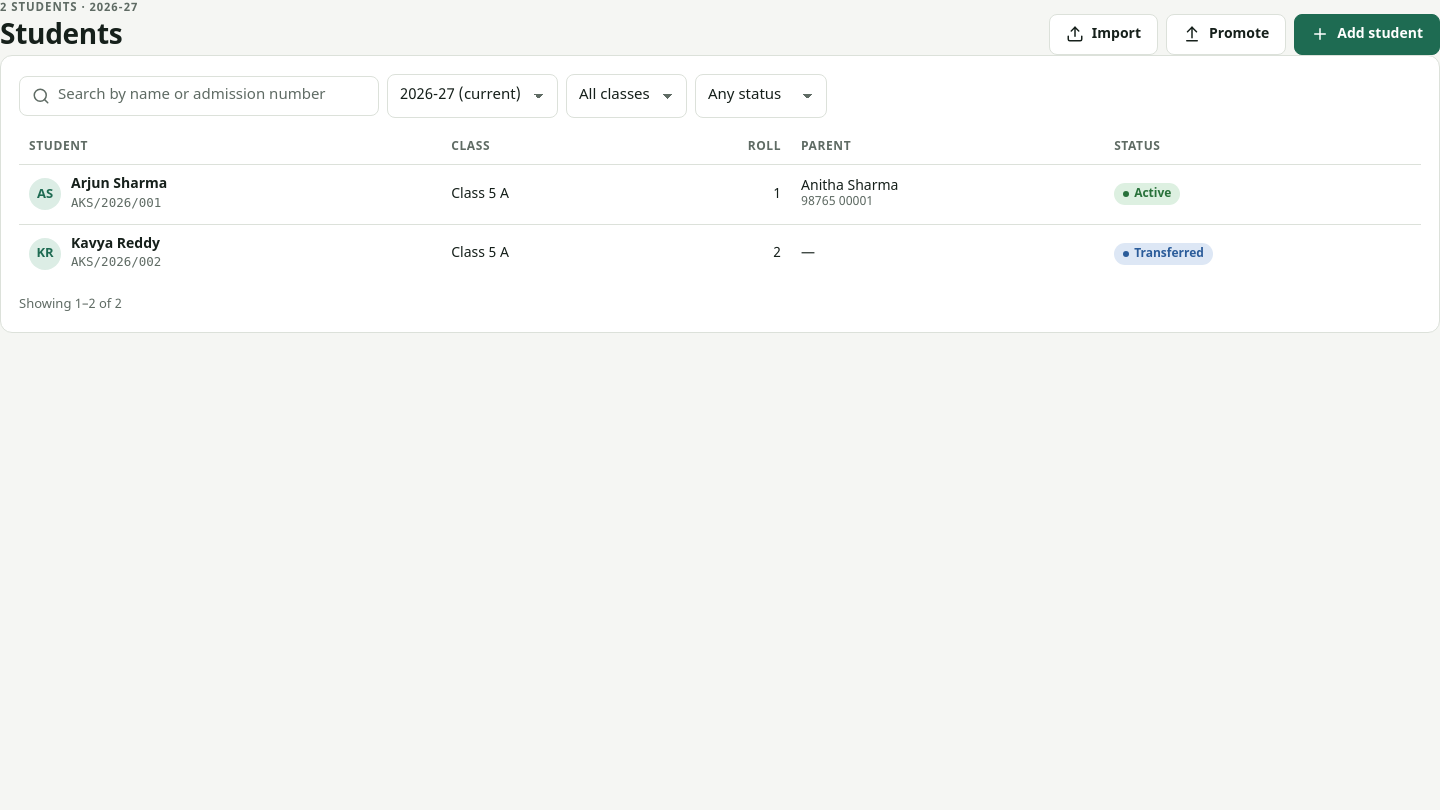
Test: Admitting a student › allows up to four parents or guardians with one primary contact
Expected: the table with test id "students-table" is shown, [19,130,1421,283]
Click the button "Add student" at {"x": 1367, "y": 34}, box [1294,14,1439,55]
(page scrolled)
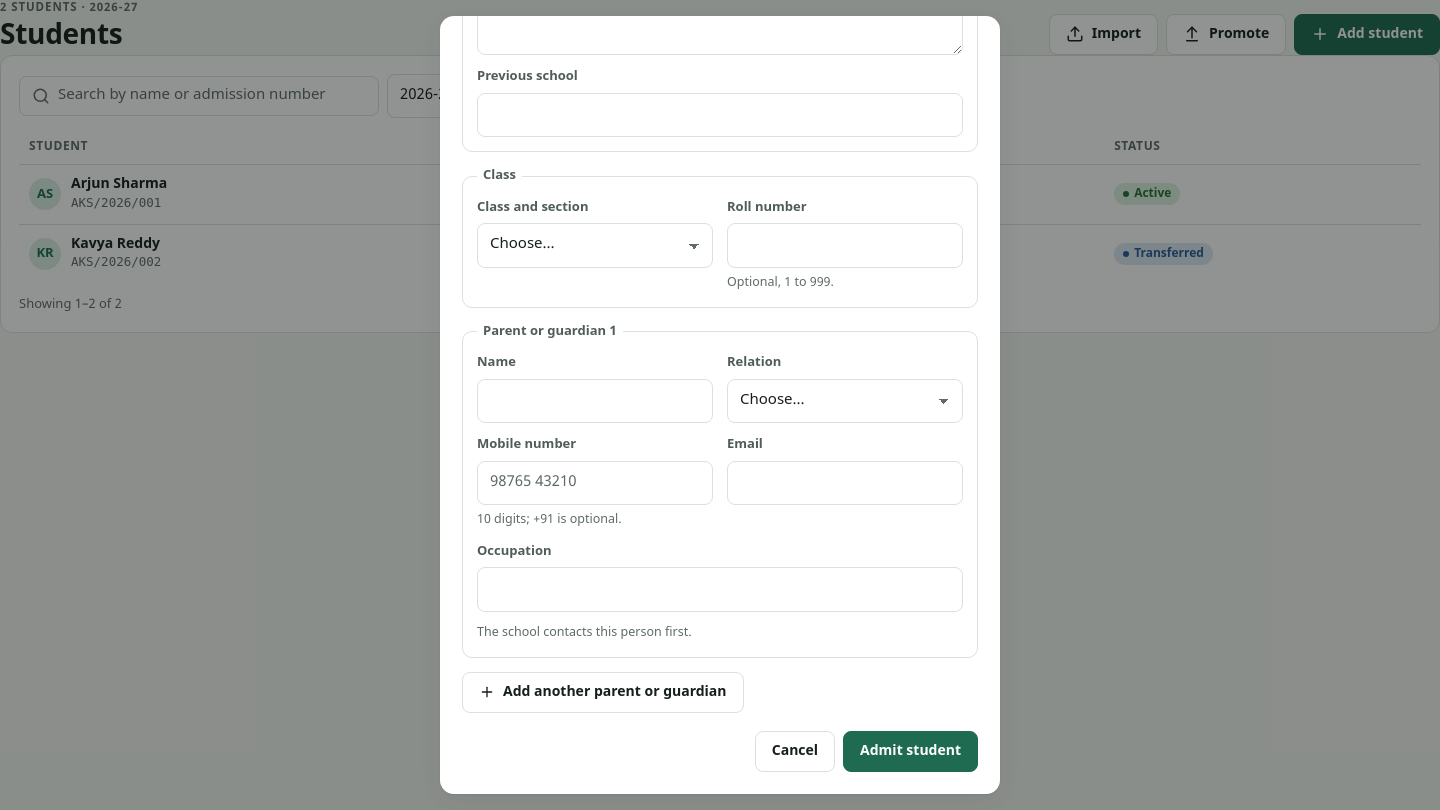
Expected: the button "Admit student" is shown, [843,731,978,772]
Click the button "Add another parent or guardian" at {"x": 603, "y": 692}, box [462,672,744,713]
(page scrolled)
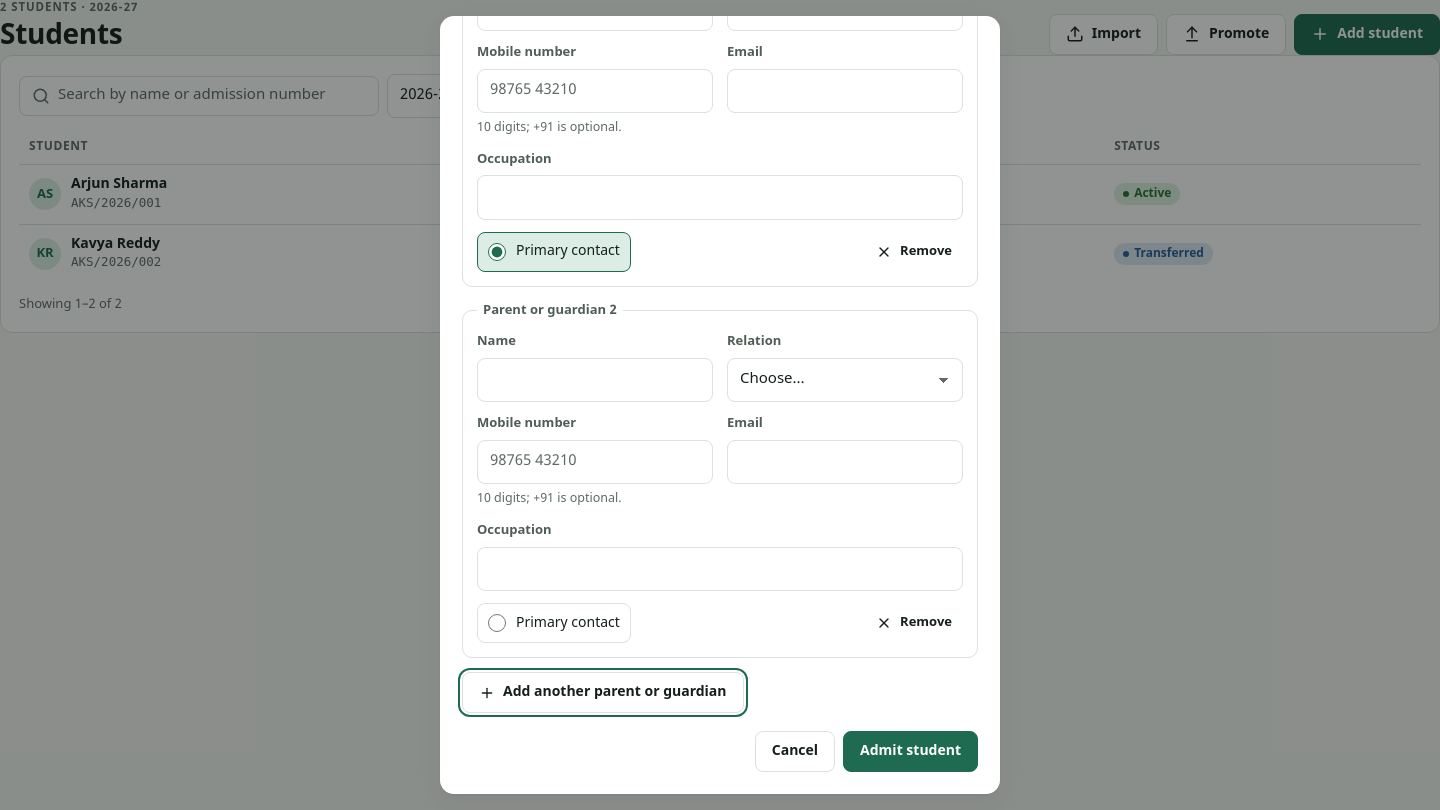
Click the button "Add another parent or guardian" at {"x": 603, "y": 693}, box [462,672,744,713]
(page scrolled)
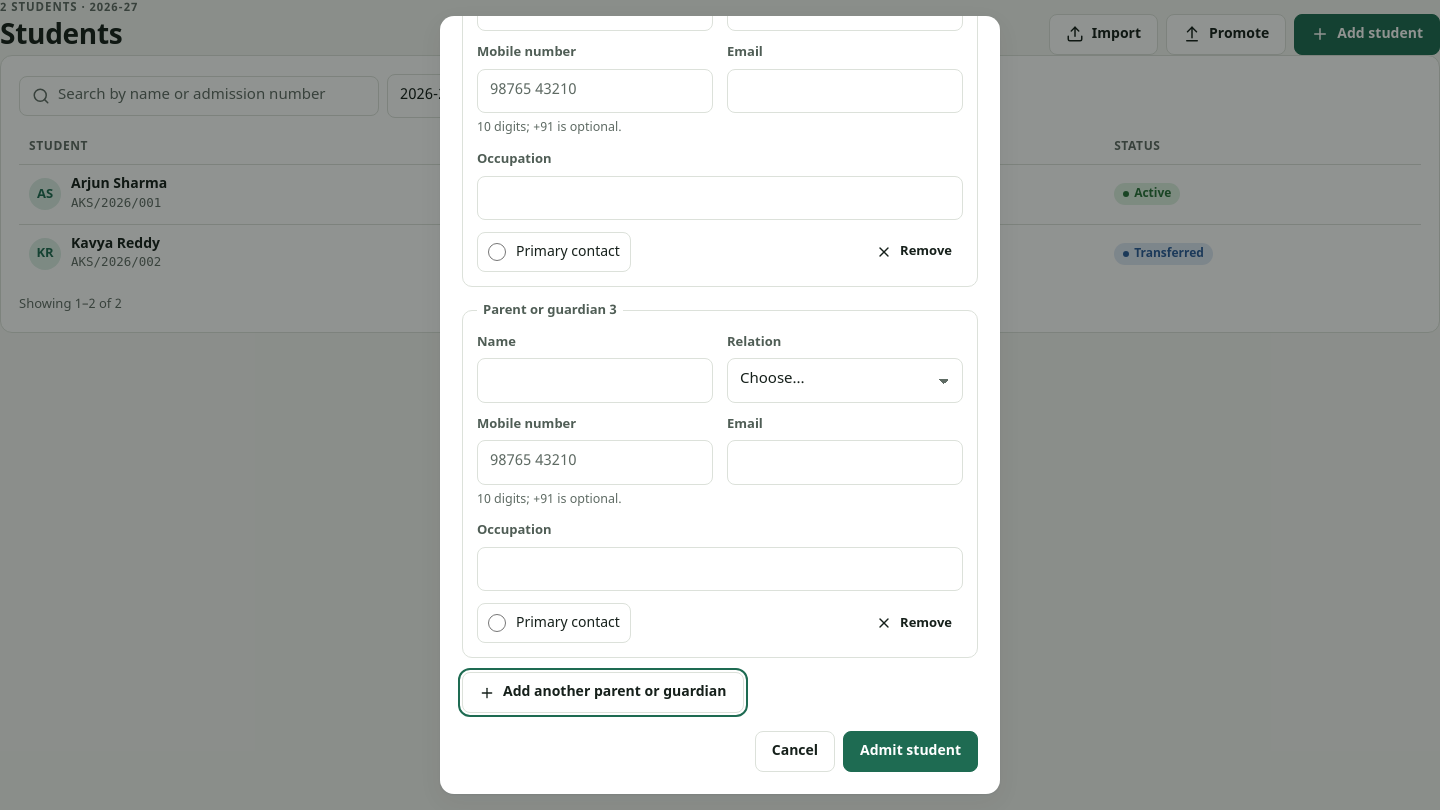
Click the button "Add another parent or guardian" at {"x": 603, "y": 693}, box [462,672,744,713]
(page scrolled)
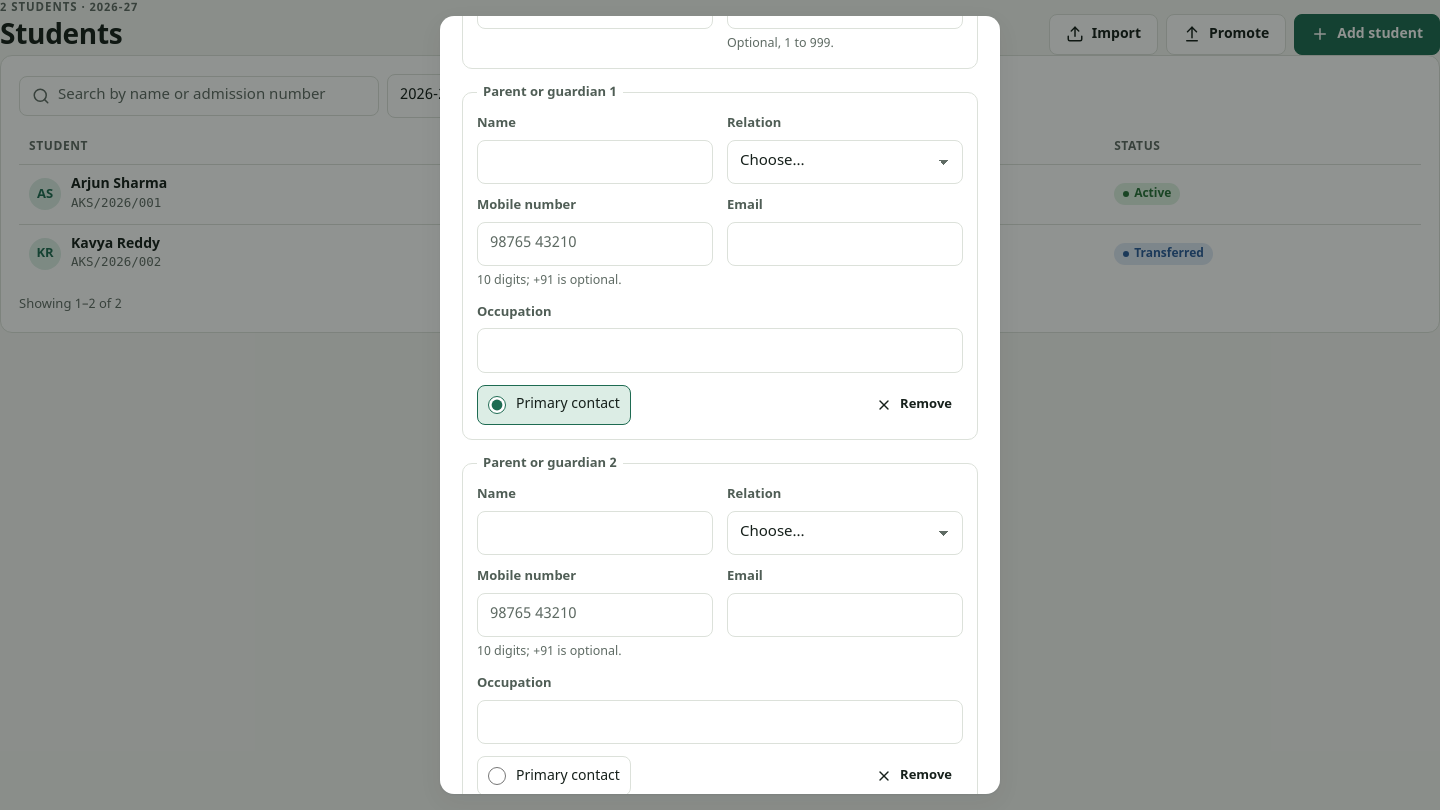
Expected: the number of radio buttons labelled "Primary contact" is 4
Expected: the button "Add another parent or guardian" is gone
Expected: the radio button labelled "Primary contact" below "Parent or guardian 1" is checked, [488,396,506,414]
